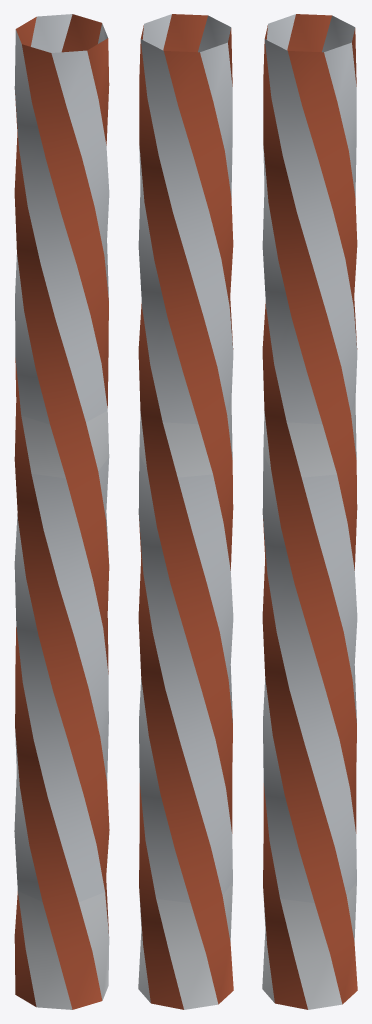
File: poste_doce_listrado_natal_pacote.glb
3 views of the same model, side by side, from view 1: azimuth 30°, elevation 25°; view 2: azimuth 150°, elevation 25°; view 3: azimuth 330°, elevation 25° (orthographic).
Visible parts, largest first — view 1: poste_doce_listrado_natal_pacote; view 2: poste_doce_listrado_natal_pacote; view 3: poste_doce_listrado_natal_pacote.
Boxes of the visible parts, x1,y1,x2,y2 form: poste_doce_listrado_natal_pacote: (14, 14, 109, 1009); poste_doce_listrado_natal_pacote: (138, 14, 233, 1009); poste_doce_listrado_natal_pacote: (262, 14, 357, 1009).
Bounding box in the file's own units: 0.1078 × 1.2 × 0.1078.
Materials: 1 (1 with a texture image).
